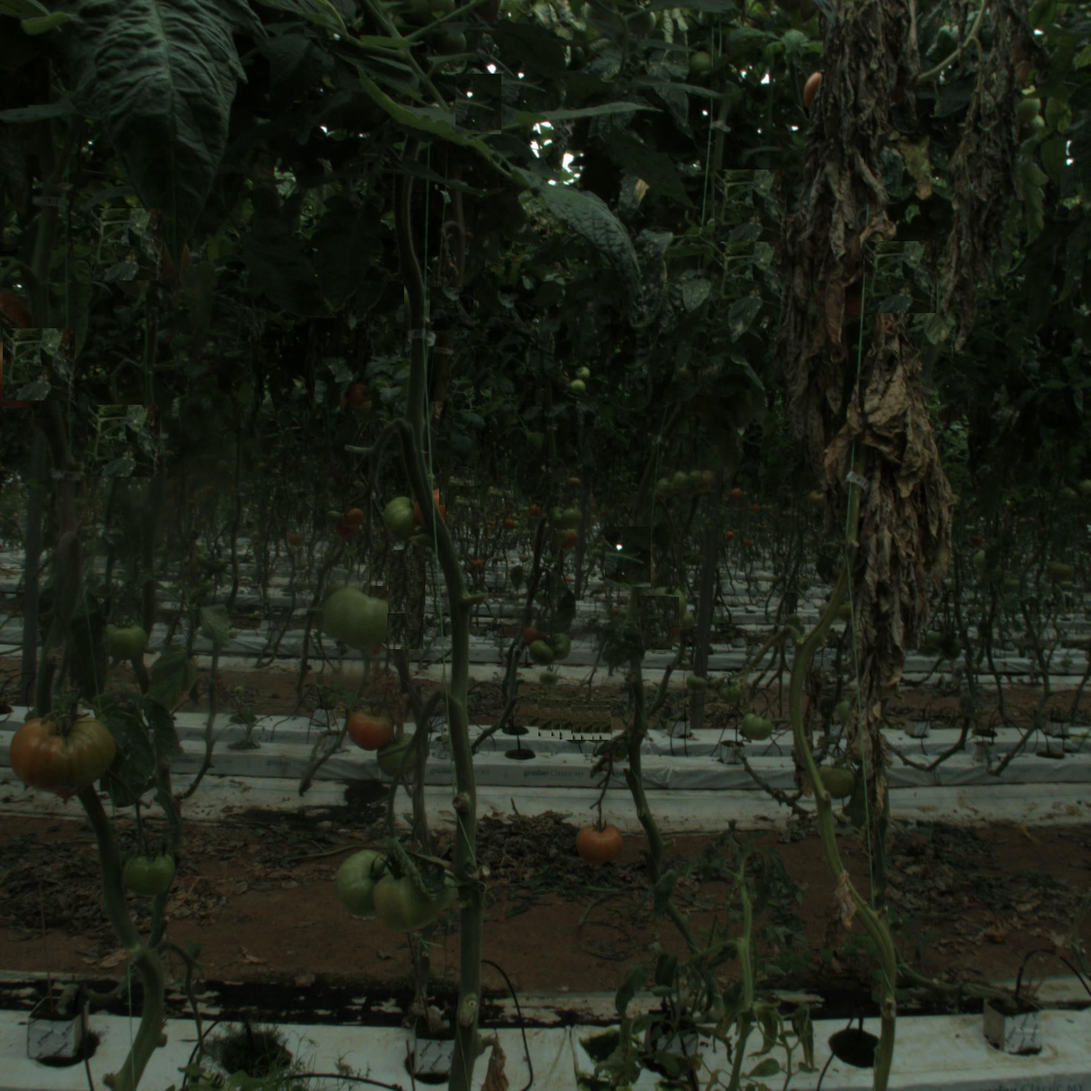semi-ripe: (11, 694, 112, 795), (345, 702, 398, 754), (573, 818, 626, 870)
unripe: (369, 866, 435, 932), (332, 852, 397, 918), (329, 581, 394, 646), (119, 840, 180, 901), (100, 615, 149, 664), (380, 496, 423, 538)
